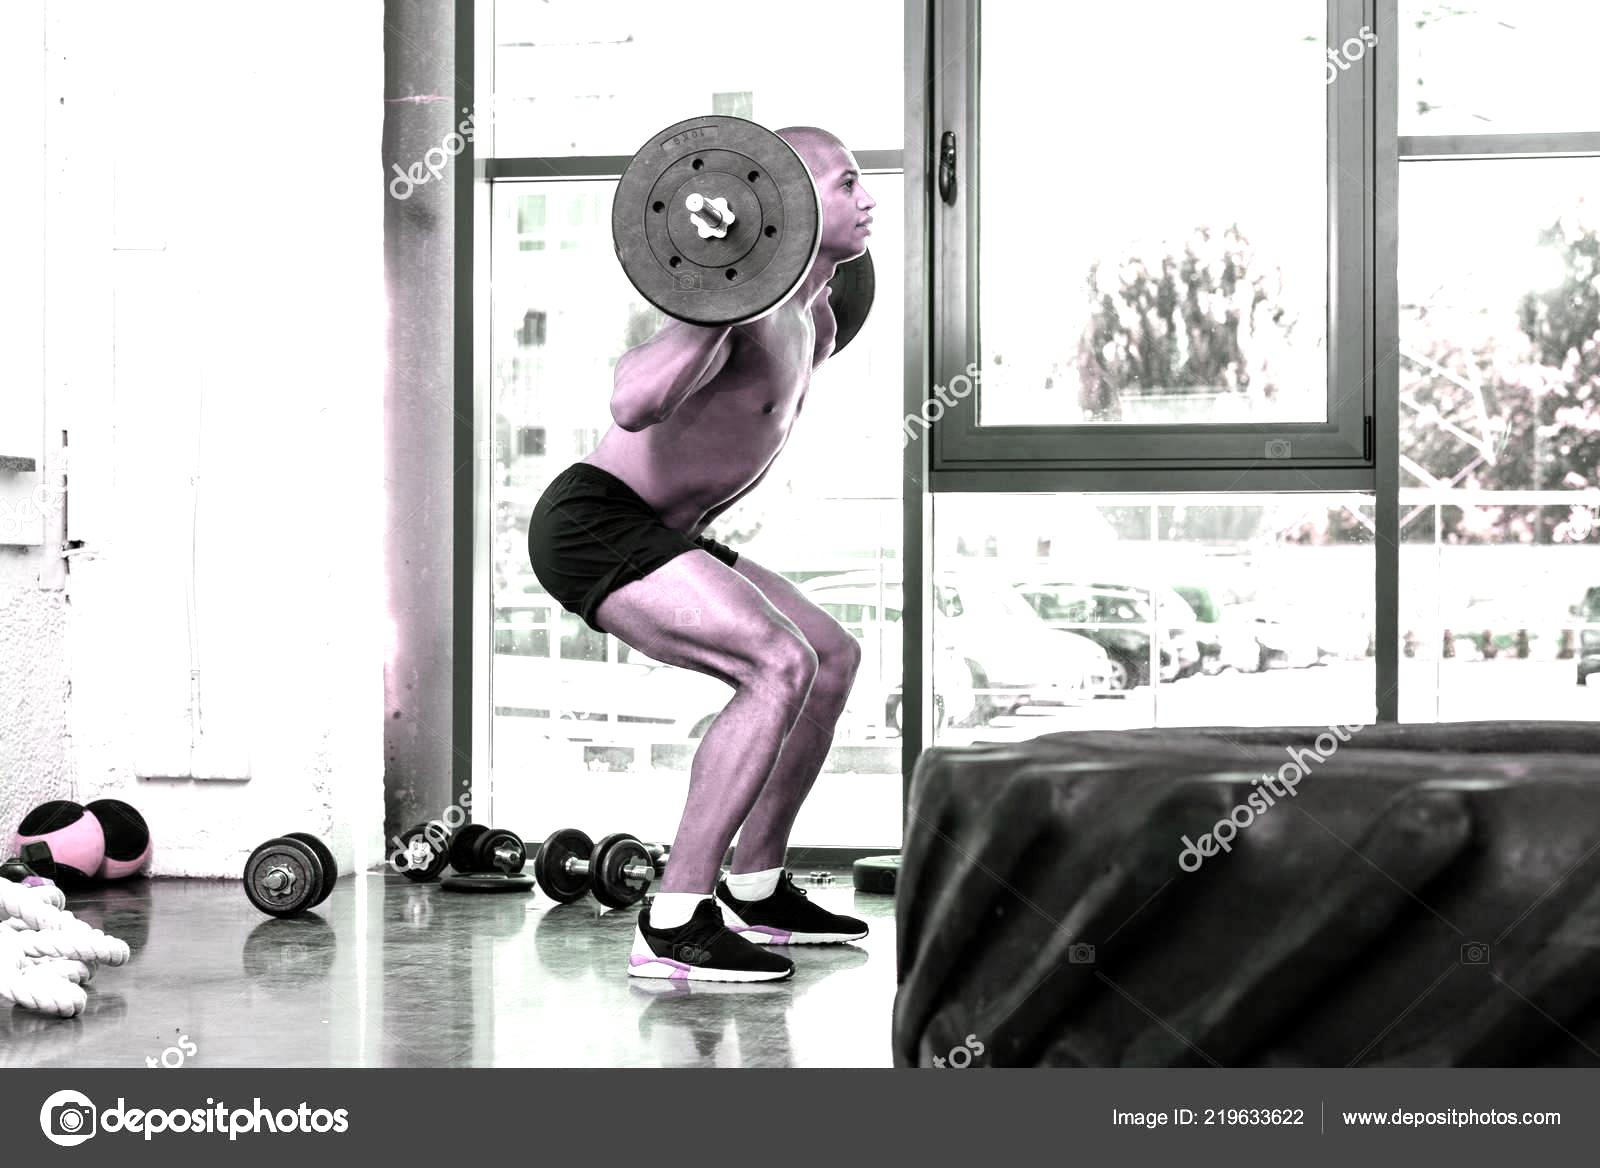Barbell: (686, 188, 709, 217)
